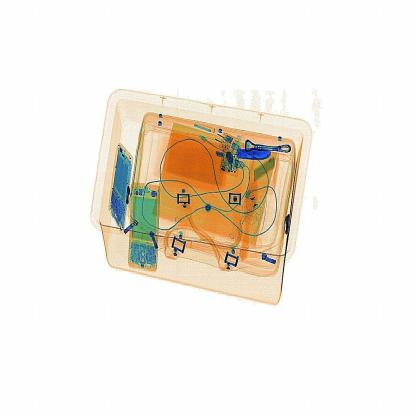knife: (227, 138, 274, 165)
